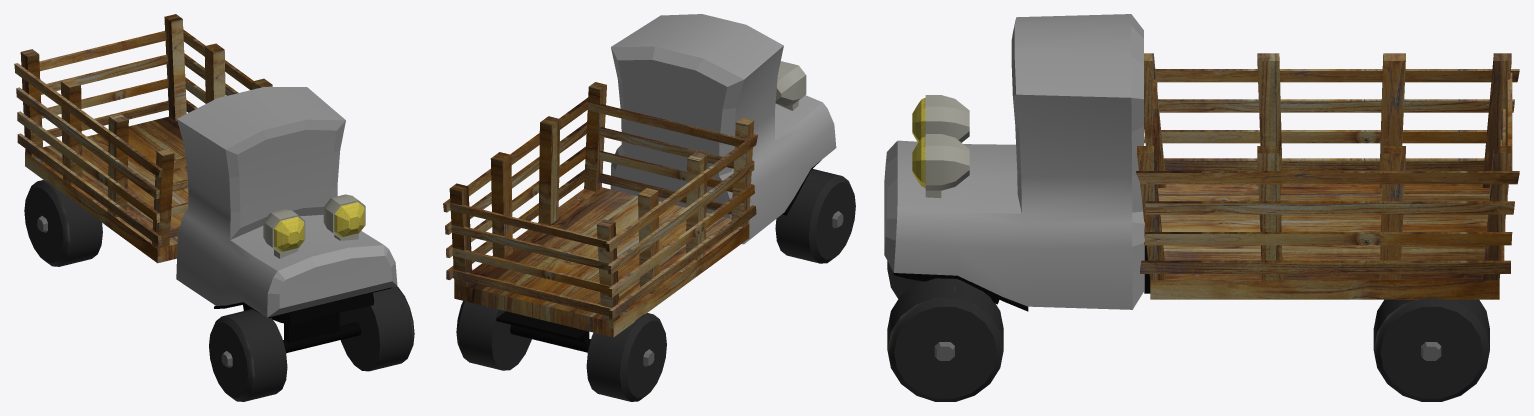
The model's file is Truck1.obj.
The picture shows the model from 3 angles, left to right: view 1: azimuth 30°, elevation 25°; view 2: azimuth 150°, elevation 25°; view 3: azimuth 270°, elevation 25°; orthographic projection. The views are drawn at different scales.
Visible parts, largest first — view 1: Box025, Box003, Box024, Cylinder006, Cylinder034, Cylinder032, Cylinder007, Box004, Box007, Box005, Box006, Box026 (+8 smaller); view 2: Box025, Box024, Box003, Cylinder006, Cylinder034, Cylinder033, Box004, Box007, Box005, Box006, Box015, Box016 (+13 smaller); view 3: Box025, Box024, Box003, Cylinder032, Cylinder033, Box010, Box011, Box008, Box009, Box004, Box005, Box006 (+5 smaller).
Boxes of the visible parts, x1,y1,x2,y2 form: Box025: (176, 87, 397, 317); Box003: (20, 14, 272, 248); Box024: (25, 116, 188, 263); Cylinder006: (209, 309, 287, 401); Cylinder034: (24, 180, 102, 266); Cylinder032: (339, 286, 414, 371); Cylinder007: (283, 312, 361, 352); Box004: (14, 63, 162, 177); Box007: (17, 133, 161, 245); Box005: (16, 87, 159, 199); Box006: (17, 111, 159, 222); Box026: (263, 209, 305, 258); Box025: (610, 14, 836, 244); Box024: (454, 187, 749, 337); Box003: (449, 82, 754, 322); Cylinder006: (775, 169, 855, 263); Cylinder034: (586, 313, 666, 401); Cylinder033: (456, 301, 531, 370); Box004: (605, 134, 757, 252); Box007: (609, 205, 756, 319); Box005: (607, 160, 754, 274); Box006: (608, 184, 754, 297); Box015: (453, 269, 611, 315); Box016: (587, 102, 745, 146); Box025: (884, 14, 1143, 309); Box024: (1150, 184, 1499, 299); Box003: (1137, 53, 1511, 280); Cylinder032: (887, 278, 1003, 401); Cylinder033: (1373, 298, 1489, 401); Box010: (1136, 171, 1519, 184); Box011: (1140, 260, 1510, 273); Box008: (1145, 201, 1514, 214); Box009: (1144, 232, 1512, 245); Box004: (1155, 69, 1519, 82); Box005: (1158, 99, 1514, 112); Box006: (1144, 130, 1486, 143).
Bounding box in the file's own units: 120 × 155 × 288.
